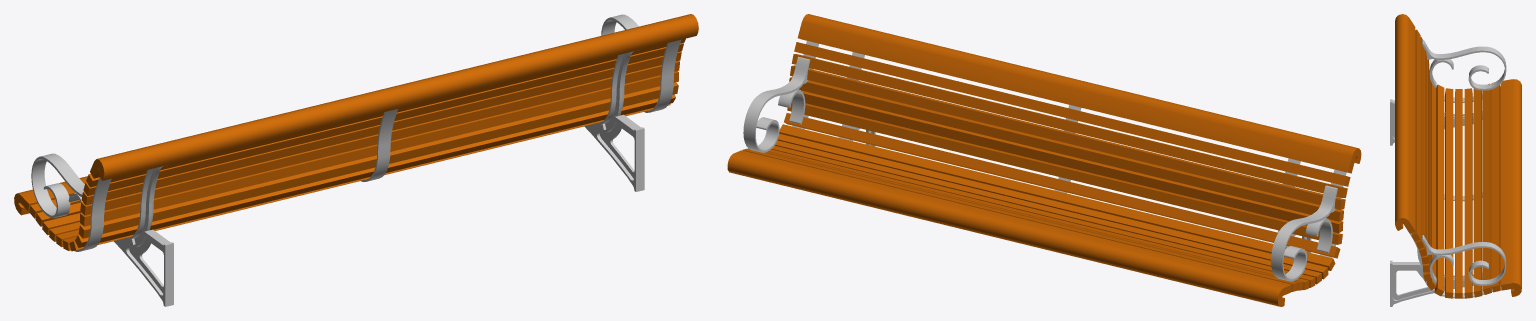
The picture shows the model from 3 angles, left to right: view 1: azimuth 30°, elevation 25°; view 2: azimuth 150°, elevation 25°; view 3: azimuth 270°, elevation 25°; orthographic projection. The views are drawn at different scales.
Visible parts, largest first — view 1: mesh1_mesh1-geometry, mesh5_mesh5-geometry, mesh12_mesh12-geometry, mesh10_mesh10-geometry, mesh19_mesh19-geometry, mesh8_mesh8-geometry, mesh3_mesh3-geometry; view 2: mesh1_mesh1-geometry, mesh5_mesh5-geometry, mesh3_mesh3-geometry, mesh19_mesh19-geometry; view 3: mesh1_mesh1-geometry, mesh3_mesh3-geometry, mesh5_mesh5-geometry, mesh19_mesh19-geometry, mesh12_mesh12-geometry, mesh10_mesh10-geometry.
Part boxes in pixels (box(x1,y1,x2,y2)): mesh1_mesh1-geometry: box(29, 38, 685, 251); mesh5_mesh5-geometry: box(90, 14, 698, 180); mesh12_mesh12-geometry: box(114, 114, 644, 306); mesh10_mesh10-geometry: box(74, 39, 681, 251); mesh19_mesh19-geometry: box(31, 14, 638, 218); mesh8_mesh8-geometry: box(124, 50, 638, 243); mesh3_mesh3-geometry: box(14, 176, 87, 215); mesh1_mesh1-geometry: box(742, 42, 1350, 291); mesh5_mesh5-geometry: box(797, 14, 1361, 173); mesh3_mesh3-geometry: box(727, 150, 1291, 306); mesh19_mesh19-geometry: box(743, 56, 1337, 281); mesh1_mesh1-geometry: box(1411, 29, 1500, 298); mesh3_mesh3-geometry: box(1500, 79, 1521, 296); mesh5_mesh5-geometry: box(1395, 14, 1415, 233); mesh19_mesh19-geometry: box(1422, 39, 1506, 285); mesh12_mesh12-geometry: box(1390, 99, 1473, 306); mesh10_mesh10-geometry: box(1404, 94, 1501, 298).
Size of the model in its own units: 0.8997 by 0.2239 by 0.2456.
